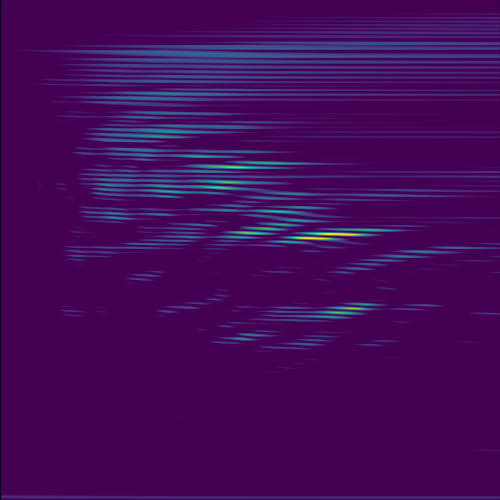semblance: (191, 158, 272, 197), (283, 226, 378, 247)
